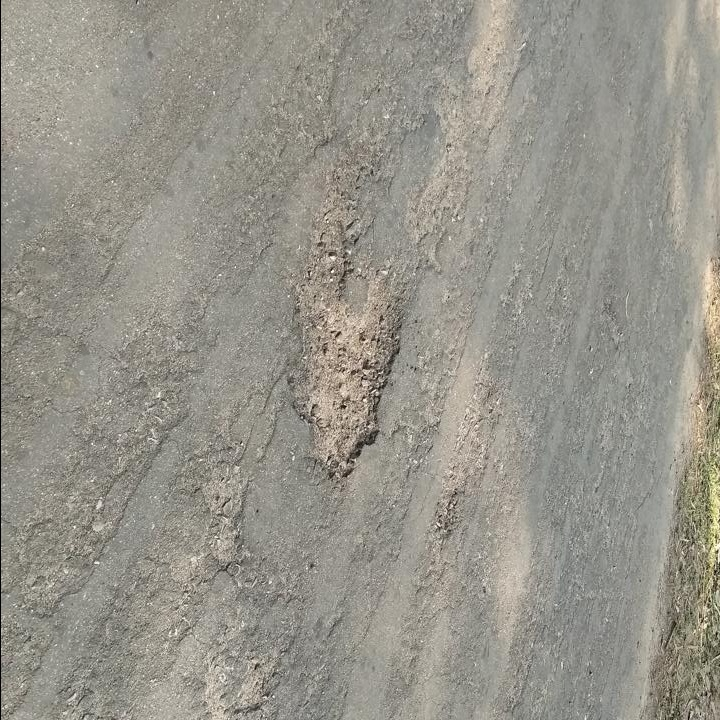pothole: (285, 202, 410, 480)
